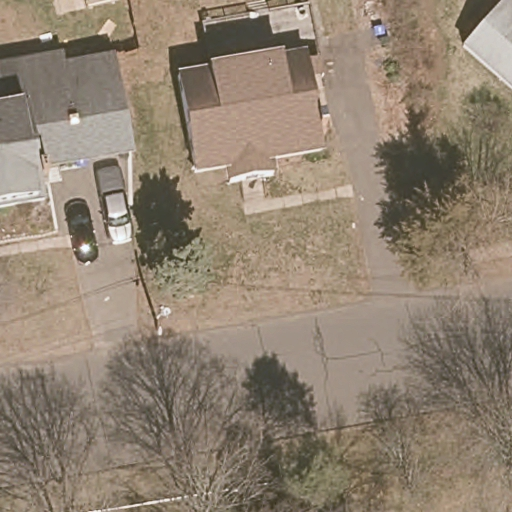DT: (155, 305, 172, 336)
